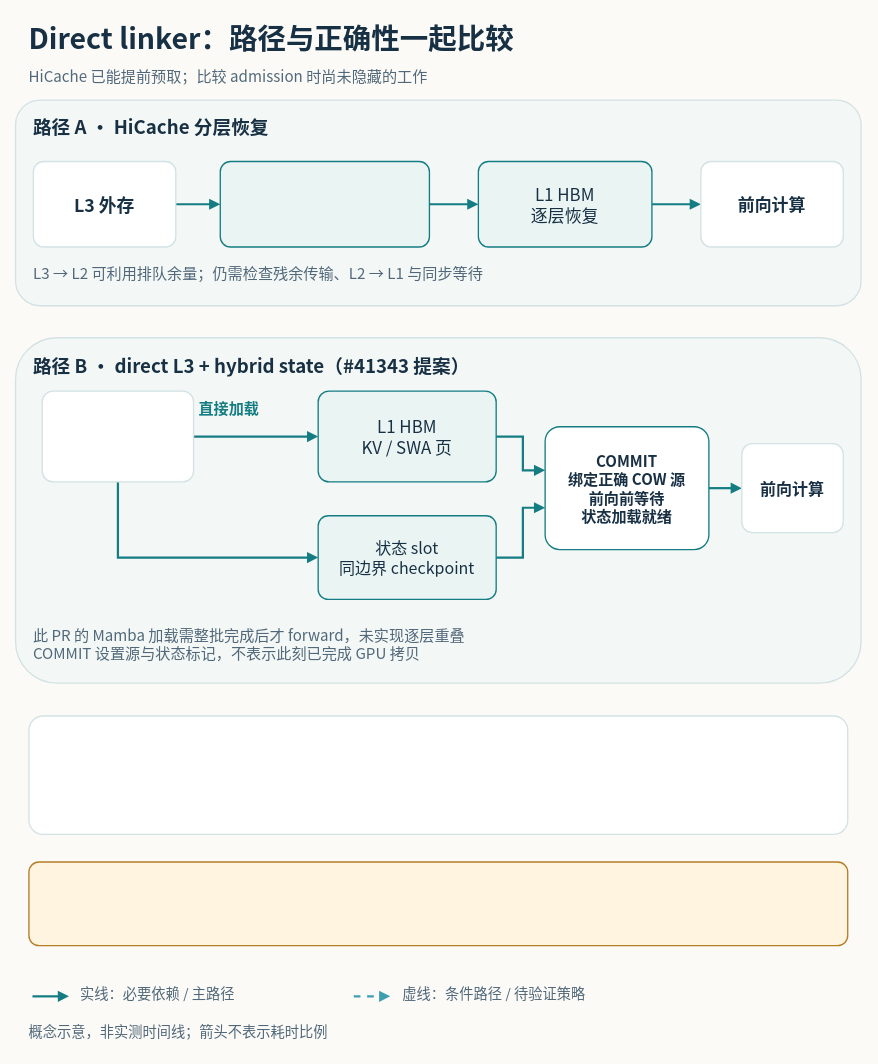
This 878x1064 diagram has some shape labels left out. Each missing label, with the centre of its shape:
"L2 Host 等待队列期间预取" goes at (x=324, y=203).
"L3 外存 无中间 Host 层" goes at (x=117, y=436).
"基础 #37381 已合并；hybrid #41343 仍 open（2026-09-30 核验） 正确性证据来自特定测试配置；尚无 TTFT / 吞吐对照" goes at (x=438, y=903).
"比较口径 准入时剩余等待 · HBM 预占时长 · 后端并发 是否更快取决于排队余量、资源预算与实测净收益" goes at (x=438, y=775).
